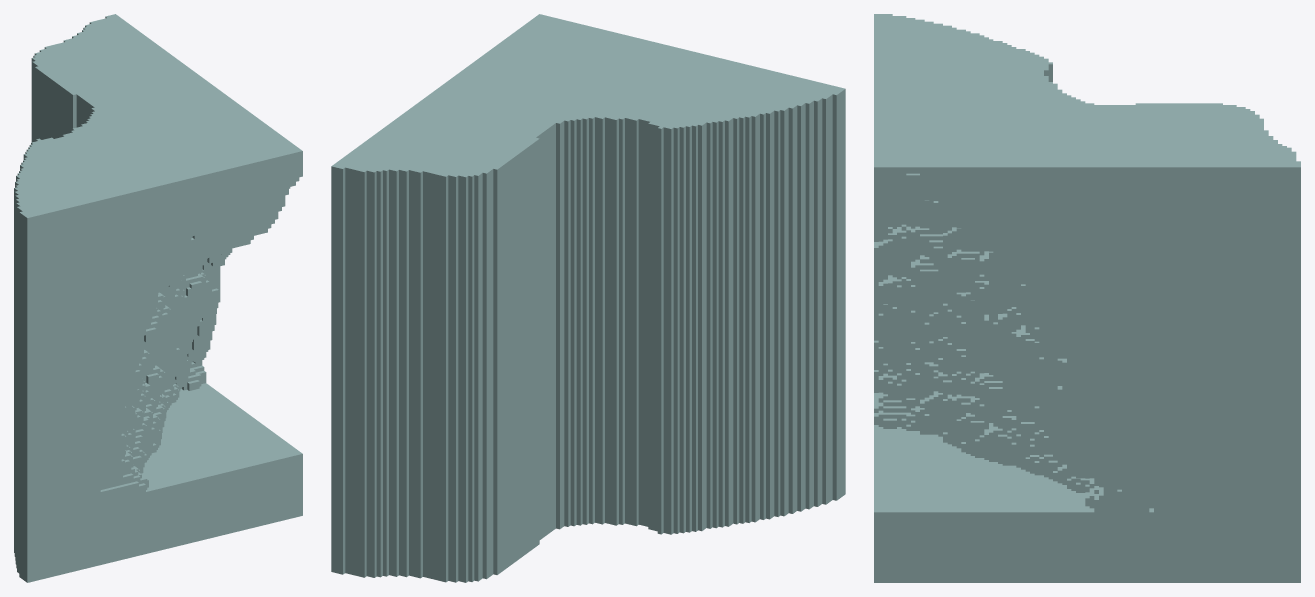
The model's file is TerrainPieces-24.obj.
3 views of the same model, side by side, from view 1: azimuth 30°, elevation 25°; view 2: azimuth 150°, elevation 25°; view 3: azimuth 270°, elevation 25° (orthographic). The views are drawn at different scales.
Visible parts, largest first — view 1: TerrainPieces-24; view 2: TerrainPieces-24; view 3: TerrainPieces-24.
Part boxes in pixels (bbox=[...]): TerrainPieces-24: bbox=[14, 14, 302, 582]; TerrainPieces-24: bbox=[331, 14, 845, 582]; TerrainPieces-24: bbox=[874, 14, 1300, 582].
Bounding box in the file's own units: 79 × 100 × 93.
1 material, 1 textured.
